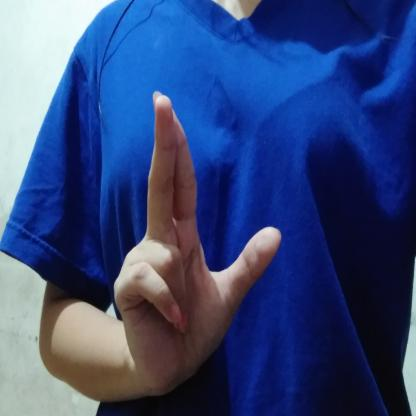who: (111, 87, 284, 399)
